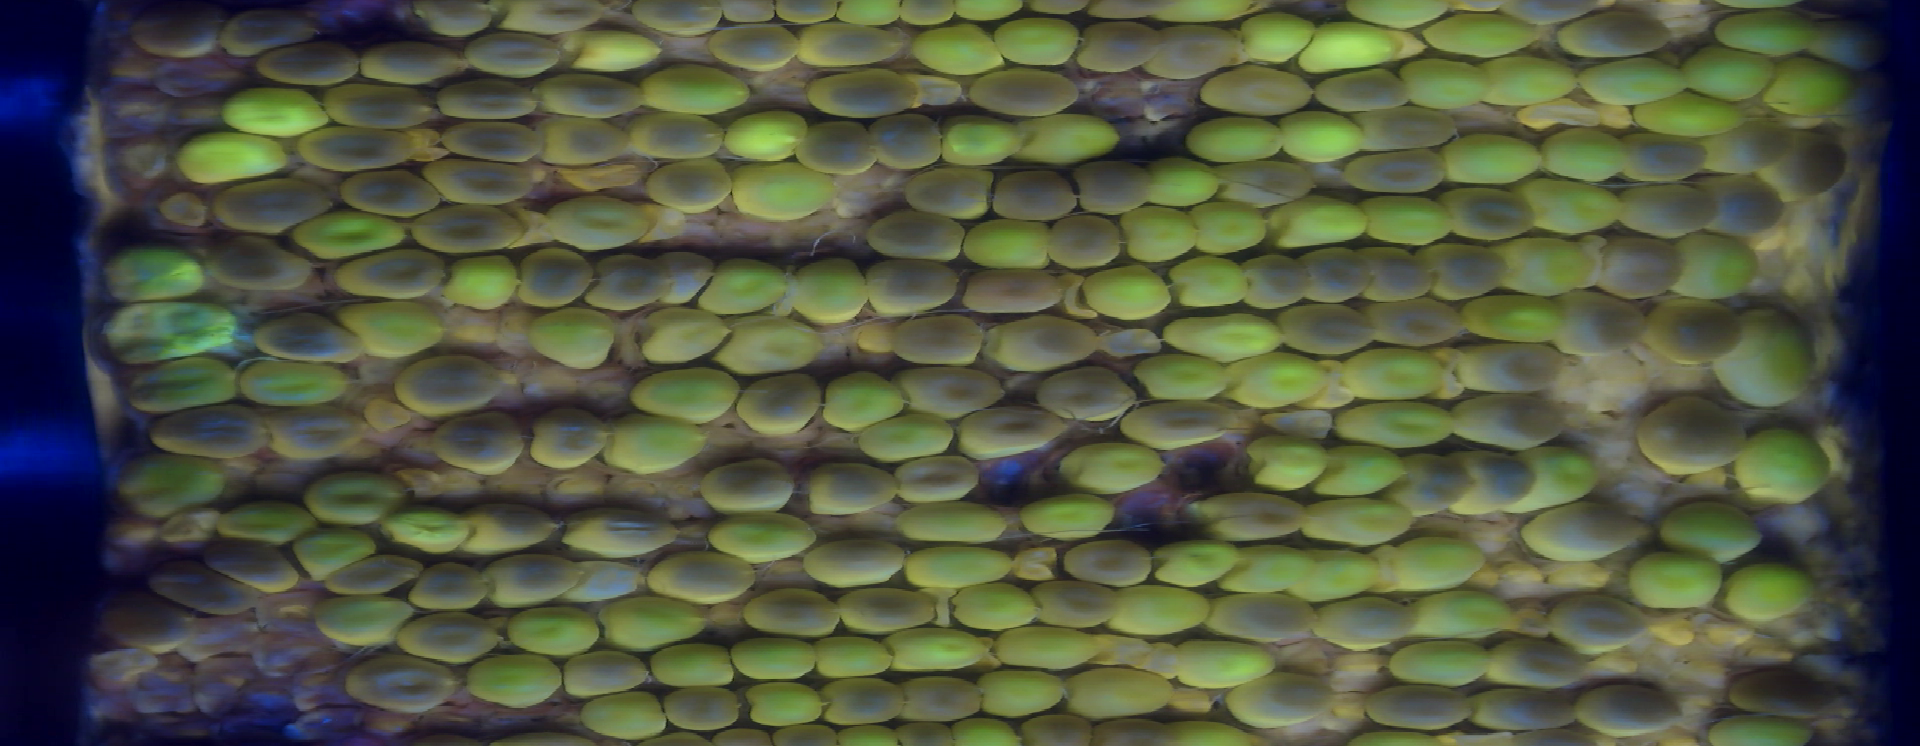fluorescent: (1718, 307, 1820, 405), (1736, 428, 1836, 506), (107, 304, 238, 356), (113, 456, 229, 514), (1671, 232, 1757, 304), (631, 367, 736, 425), (1297, 499, 1412, 551), (643, 64, 754, 118), (1527, 175, 1621, 239), (731, 162, 838, 218), (136, 358, 241, 413), (1660, 501, 1761, 559), (607, 414, 707, 472), (174, 134, 290, 183), (1161, 314, 1283, 360), (340, 300, 443, 355), (1056, 443, 1164, 495), (1500, 234, 1597, 292), (1631, 552, 1723, 612), (1342, 345, 1438, 403), (720, 317, 824, 370), (1109, 586, 1213, 638), (1760, 56, 1849, 118), (219, 87, 328, 137), (696, 257, 789, 316), (785, 258, 867, 325), (1482, 51, 1577, 108), (709, 511, 816, 561), (302, 474, 397, 530), (1270, 197, 1373, 249), (462, 657, 562, 709), (310, 594, 411, 646), (1336, 401, 1453, 445), (640, 311, 732, 367), (1227, 354, 1322, 408), (1445, 134, 1540, 187), (1244, 437, 1333, 495), (1576, 58, 1689, 103), (1387, 639, 1491, 688), (1078, 265, 1172, 318), (291, 209, 407, 254), (1302, 20, 1400, 71), (962, 216, 1056, 269), (1401, 58, 1489, 114), (240, 359, 347, 405), (1682, 47, 1774, 100), (1420, 12, 1536, 55), (104, 251, 204, 300), (1411, 587, 1509, 637), (1318, 445, 1408, 499), (1462, 292, 1559, 342), (1722, 563, 1816, 615), (1138, 352, 1227, 405), (1393, 537, 1483, 590), (910, 24, 1005, 75), (1513, 450, 1600, 505), (895, 500, 1007, 543), (1179, 638, 1273, 688), (1016, 492, 1118, 539), (531, 310, 613, 367), (1633, 96, 1745, 137), (944, 111, 1021, 171), (595, 598, 703, 641), (1220, 544, 1314, 593), (1539, 130, 1629, 181), (1021, 115, 1119, 162), (888, 628, 980, 677), (578, 692, 667, 742), (1300, 548, 1380, 604), (1189, 114, 1284, 160), (1718, 10, 1811, 58), (1280, 109, 1363, 162), (444, 256, 520, 314), (1124, 207, 1200, 265), (978, 666, 1063, 718), (824, 372, 906, 425), (1169, 258, 1248, 314), (999, 628, 1097, 671), (731, 632, 814, 682), (862, 415, 954, 461), (386, 507, 467, 559), (954, 582, 1036, 632), (644, 642, 737, 686), (294, 526, 372, 577), (1195, 200, 1270, 254), (507, 608, 598, 652), (222, 502, 323, 541), (1236, 13, 1311, 65), (727, 110, 804, 160), (1144, 160, 1222, 209), (905, 546, 1013, 582), (566, 32, 660, 72), (998, 20, 1078, 67), (1156, 541, 1236, 588), (744, 679, 820, 724), (1706, 715, 1815, 746), (814, 646, 896, 680)
nonfluorescent: (1641, 394, 1745, 469), (1449, 393, 1567, 452), (1522, 503, 1644, 560), (347, 655, 458, 715), (1589, 234, 1681, 303), (154, 405, 267, 461), (392, 356, 507, 410), (290, 125, 413, 175), (1569, 682, 1678, 737), (1558, 294, 1653, 356), (151, 561, 253, 619), (1548, 594, 1651, 652), (414, 205, 534, 254), (955, 405, 1070, 456), (864, 256, 962, 315), (1116, 401, 1232, 450), (1731, 668, 1839, 720), (561, 507, 680, 555), (1649, 300, 1744, 360), (261, 310, 362, 365), (743, 587, 842, 643), (431, 413, 520, 475), (214, 232, 311, 289), (1229, 675, 1335, 728), (1449, 183, 1536, 246), (1616, 183, 1714, 239), (647, 551, 756, 601), (1315, 594, 1412, 650), (1558, 7, 1671, 55), (803, 70, 920, 116), (206, 538, 298, 597), (740, 372, 820, 439), (1202, 67, 1311, 116), (1209, 593, 1318, 642), (1761, 134, 1844, 197), (1469, 686, 1577, 735), (1704, 174, 1784, 240), (324, 77, 426, 129), (891, 310, 986, 365), (1367, 685, 1478, 731), (1455, 344, 1560, 393), (1487, 635, 1582, 688), (264, 407, 366, 457), (971, 67, 1075, 116), (519, 245, 598, 310), (213, 184, 328, 228), (809, 457, 898, 514), (700, 458, 792, 513), (1277, 303, 1373, 355), (1145, 24, 1238, 78), (1040, 367, 1130, 423), (402, 609, 500, 659), (905, 366, 1005, 415), (986, 317, 1097, 361), (800, 539, 902, 587), (1390, 457, 1469, 518), (538, 72, 642, 119), (864, 214, 969, 261), (358, 40, 464, 86), (104, 590, 186, 649), (1311, 65, 1412, 113), (1198, 492, 1300, 539), (793, 27, 904, 70), (130, 6, 220, 58), (430, 157, 529, 203), (258, 40, 360, 86), (336, 255, 446, 296), (962, 267, 1058, 315), (464, 505, 560, 552), (627, 114, 725, 160), (904, 165, 994, 216), (336, 170, 438, 214), (440, 78, 539, 124), (710, 22, 800, 72), (531, 410, 606, 470), (1075, 22, 1160, 75), (839, 586, 932, 633), (1708, 120, 1785, 178), (216, 13, 316, 58), (1048, 213, 1130, 267), (459, 33, 564, 75), (1062, 539, 1155, 586), (1619, 134, 1707, 183), (991, 169, 1076, 219), (542, 118, 626, 169), (1359, 109, 1462, 151), (560, 653, 651, 699), (895, 457, 984, 505), (1460, 454, 1531, 514), (648, 160, 729, 213), (792, 121, 877, 171), (590, 258, 672, 310), (1342, 153, 1442, 195), (486, 552, 579, 597), (1375, 298, 1463, 344), (1220, 160, 1311, 205), (1038, 582, 1118, 632), (1071, 164, 1149, 216), (444, 122, 540, 163), (822, 677, 904, 724), (1243, 252, 1311, 307), (899, 673, 982, 718), (662, 684, 746, 729), (1308, 247, 1370, 307), (408, 563, 486, 611), (874, 111, 942, 167), (1809, 21, 1878, 71), (326, 556, 420, 593), (1369, 249, 1431, 300), (658, 252, 711, 310), (1014, 715, 1112, 746), (1760, 506, 1829, 549), (1096, 718, 1168, 746), (1839, 720, 1840, 746)
